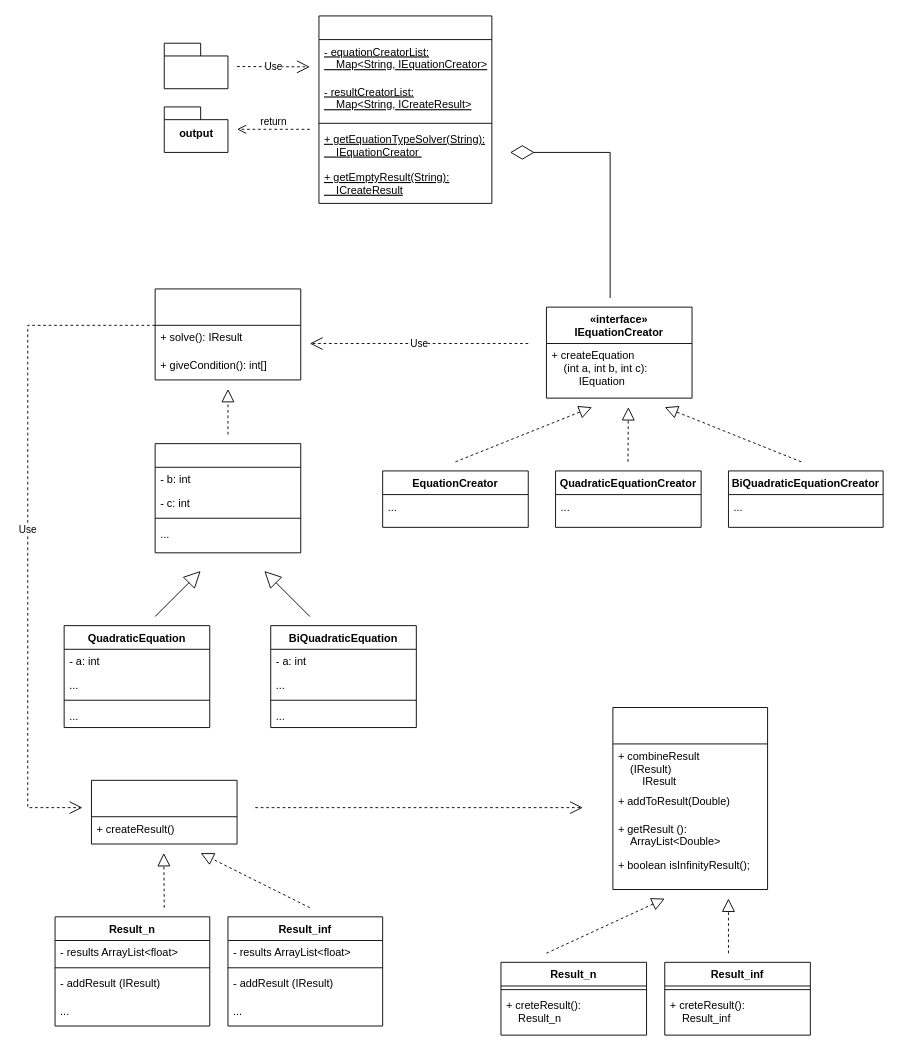
Some shapes in this 899 by 1051 pixel diagram are drawn without their labels. The box of each missing label's shape, as (x1, y1, x2, y2) in pixels:
Equation: (154, 443, 301, 553)
input: (163, 42, 228, 89)
Main: (318, 15, 492, 203)
«interface» ICreateResult: (91, 779, 237, 844)
«interface» IEquation: (154, 288, 301, 380)
«interface» IResult: (612, 707, 768, 890)
